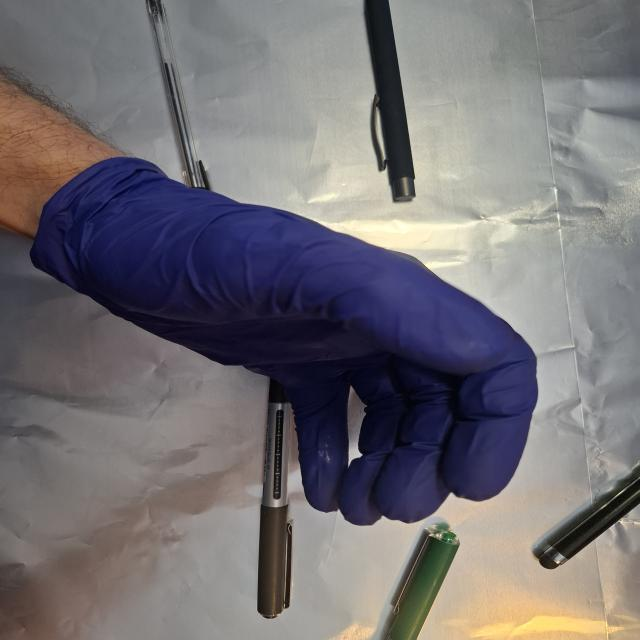glove_on: (37, 158, 541, 529)
